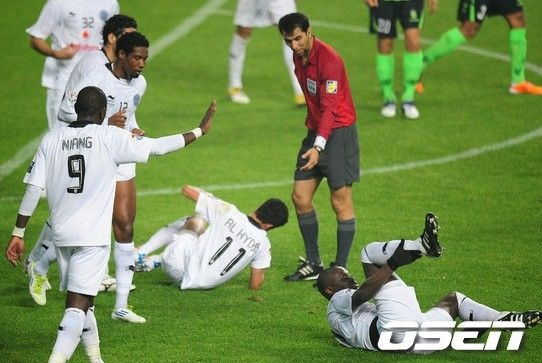falling: (116, 177, 299, 298)
